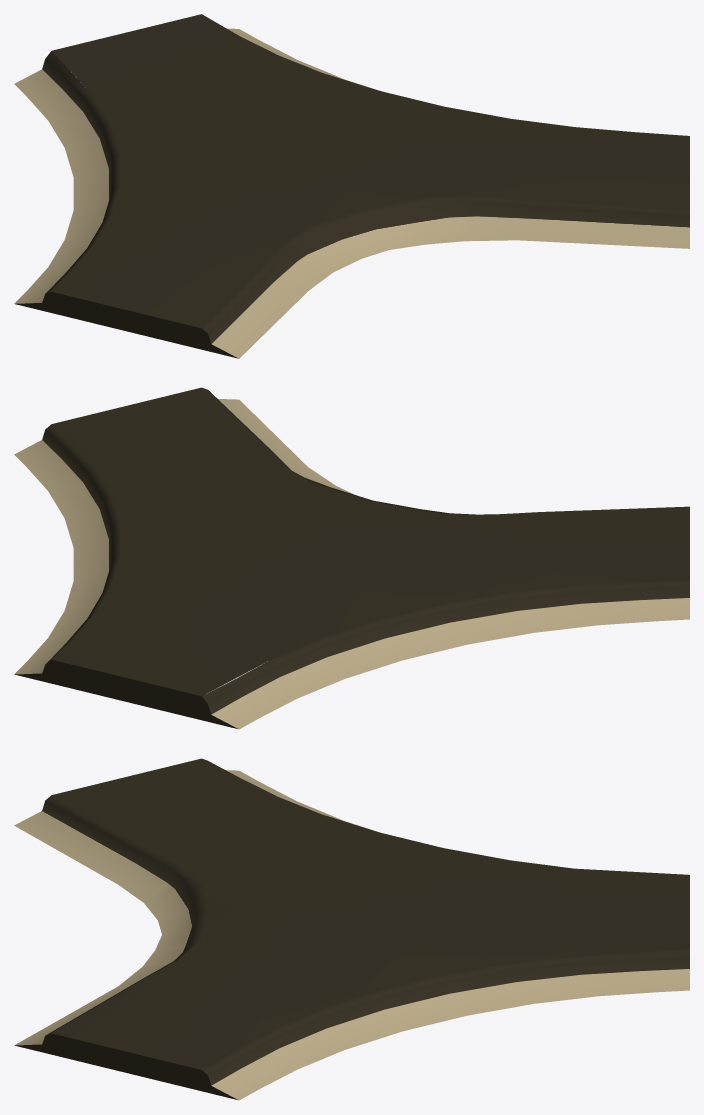
File: Road_Zipper.fbx
3 renders of one model, top to bottom at view 1: azimuth 30°, elevation 25°; view 2: azimuth 150°, elevation 25°; view 3: azimuth 270°, elevation 25°, orthographic.
Parts seen in each view (by area): view 1: Road_Zipper; view 2: Road_Zipper; view 3: Road_Zipper.
Part boxes in pixels (x1,y1,x2,y2): Road_Zipper: [14, 14, 689, 358]; Road_Zipper: [14, 387, 689, 729]; Road_Zipper: [14, 758, 689, 1100].
Bounding box in the file's own units: 0.9 × 0.0318 × 0.7794.
